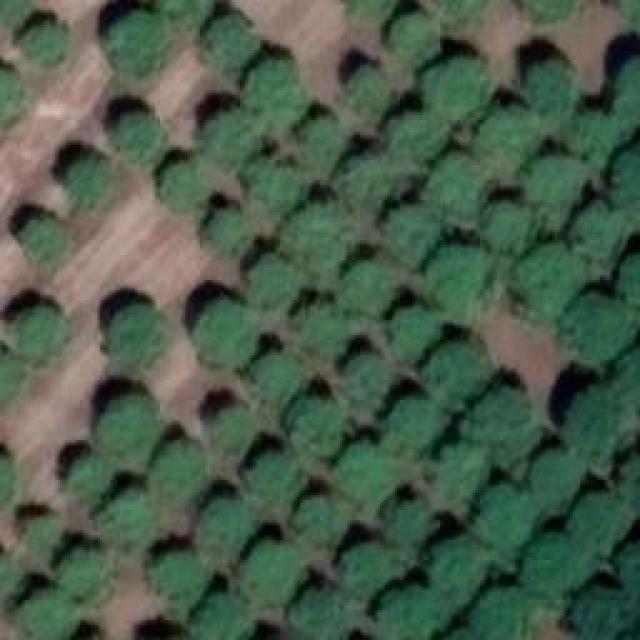Tree: (95, 390, 170, 458), (190, 293, 256, 369), (565, 292, 634, 362), (515, 245, 583, 316), (518, 55, 585, 126), (565, 578, 639, 640), (338, 440, 398, 514), (105, 10, 173, 75), (568, 390, 633, 457), (523, 533, 587, 600), (421, 50, 484, 118), (473, 575, 538, 640), (100, 298, 163, 364), (528, 152, 587, 222), (240, 153, 305, 216), (288, 203, 353, 266), (428, 248, 490, 313), (470, 390, 529, 457), (522, 441, 581, 508), (253, 60, 314, 124), (470, 108, 531, 172), (378, 200, 442, 261), (153, 438, 212, 502), (432, 158, 491, 222), (568, 488, 630, 548), (475, 488, 534, 550), (378, 398, 439, 457), (48, 538, 109, 596), (427, 335, 484, 397), (573, 200, 629, 263), (198, 494, 253, 558), (293, 298, 352, 357), (245, 247, 303, 306), (290, 490, 348, 549), (337, 537, 396, 595), (427, 538, 485, 597), (155, 158, 215, 215), (5, 297, 62, 356), (240, 540, 299, 597), (338, 150, 399, 205), (205, 105, 265, 160), (375, 585, 435, 640), (107, 108, 164, 165), (288, 393, 343, 452), (148, 552, 207, 606), (102, 484, 153, 546), (245, 448, 301, 504), (385, 15, 442, 70), (424, 442, 478, 500), (570, 105, 620, 167), (245, 350, 301, 405), (477, 200, 534, 254), (20, 17, 74, 73), (203, 198, 255, 255), (292, 105, 346, 159), (383, 495, 438, 548), (388, 300, 438, 358), (63, 155, 114, 211), (194, 587, 247, 640), (393, 113, 445, 167), (336, 260, 388, 314), (290, 590, 345, 640), (208, 18, 261, 69), (18, 593, 75, 640), (17, 215, 70, 262), (60, 456, 111, 504), (203, 404, 250, 456), (347, 65, 396, 114), (340, 353, 387, 404), (610, 53, 640, 128), (18, 513, 66, 558), (608, 148, 640, 214), (0, 65, 26, 137), (610, 250, 639, 309), (612, 543, 640, 598), (152, 0, 226, 20), (515, 0, 576, 22), (0, 550, 20, 617), (0, 342, 19, 412), (440, 0, 492, 20), (0, 448, 12, 512)
